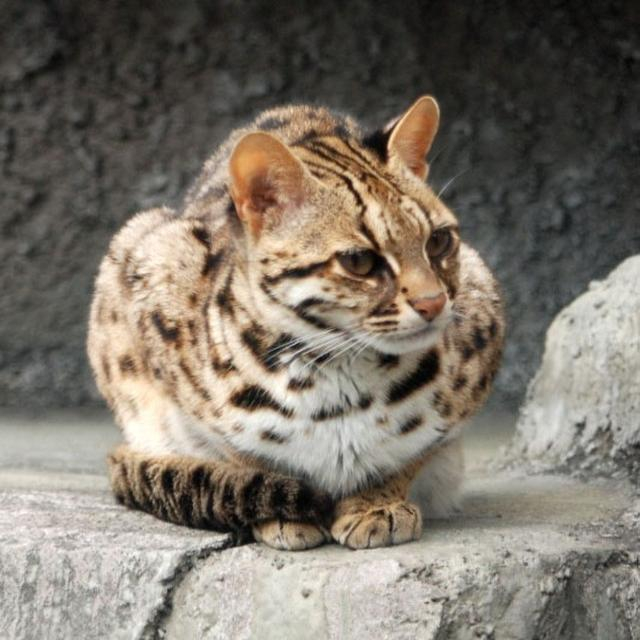leopard: (156, 106, 524, 555)
